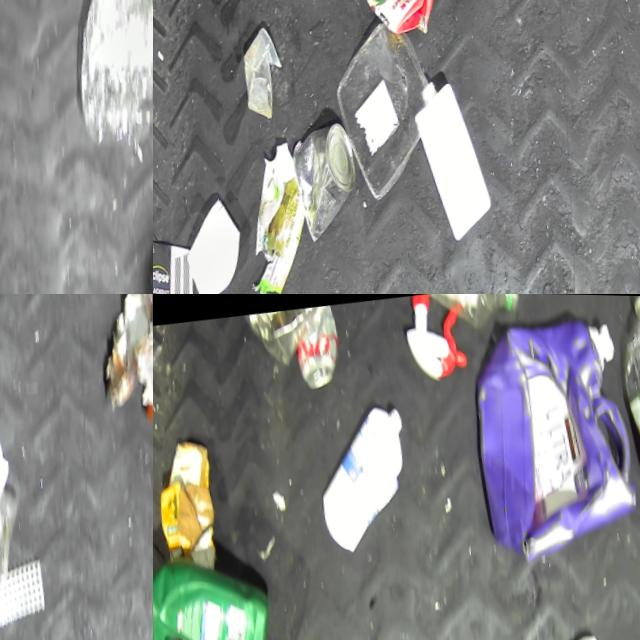can: (285, 120, 373, 245), (287, 302, 348, 395)
milk_jug: (400, 67, 511, 244)
non_white_jug: (453, 304, 640, 565), (153, 547, 294, 640), (333, 0, 449, 50)
plastic_bottle: (602, 294, 640, 515), (397, 294, 524, 337)
